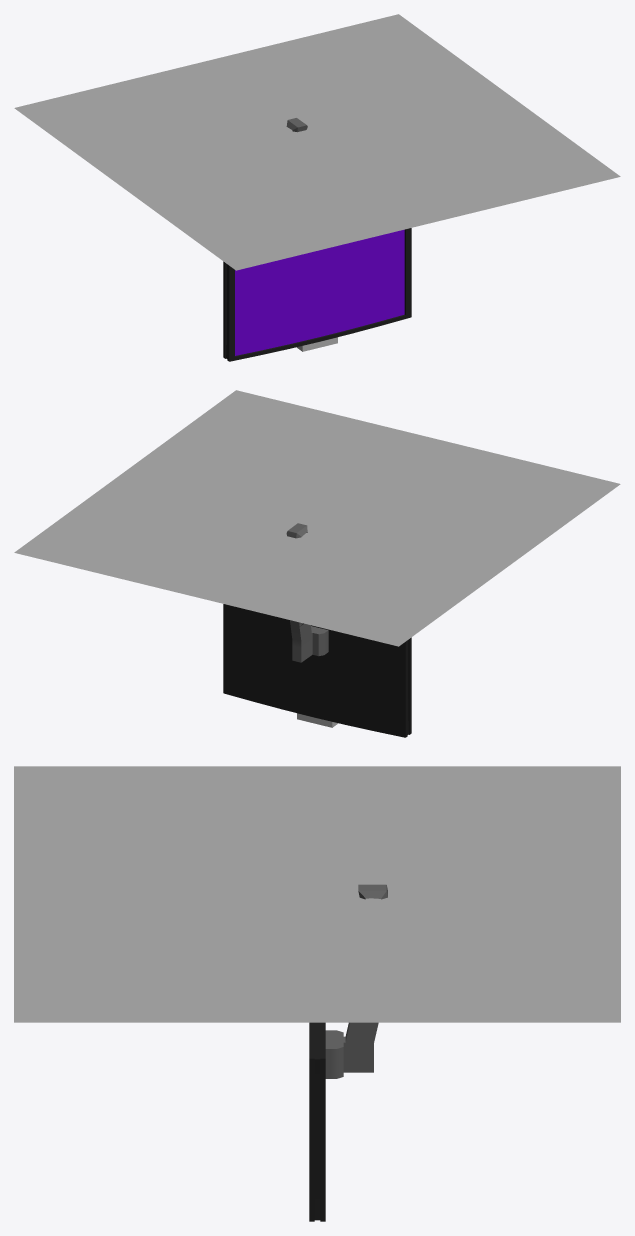
The model's file is Monitor_No_Score.fbx.
The picture shows the model from 3 angles, top to bottom: view 1: azimuth 30°, elevation 25°; view 2: azimuth 150°, elevation 25°; view 3: azimuth 270°, elevation 25°; orthographic projection. The views are drawn at different scales.
Visible parts, largest first — view 1: Ceiling, Monitor2; view 2: Ceiling, Monitor2, Handle1; view 3: Ceiling, Monitor2, Handle1.
Part boxes in pixels (bbox=[...]): Ceiling: bbox=[14, 14, 620, 270]; Monitor2: bbox=[223, 228, 411, 361]; Ceiling: bbox=[14, 390, 620, 646]; Monitor2: bbox=[223, 604, 411, 737]; Handle1: bbox=[286, 523, 328, 662]; Ceiling: bbox=[14, 766, 620, 1022]; Monitor2: bbox=[309, 1022, 325, 1221]; Handle1: bbox=[325, 884, 387, 1078].
Size of the model in its own units: 8.81 by 4.55 by 8.81.
